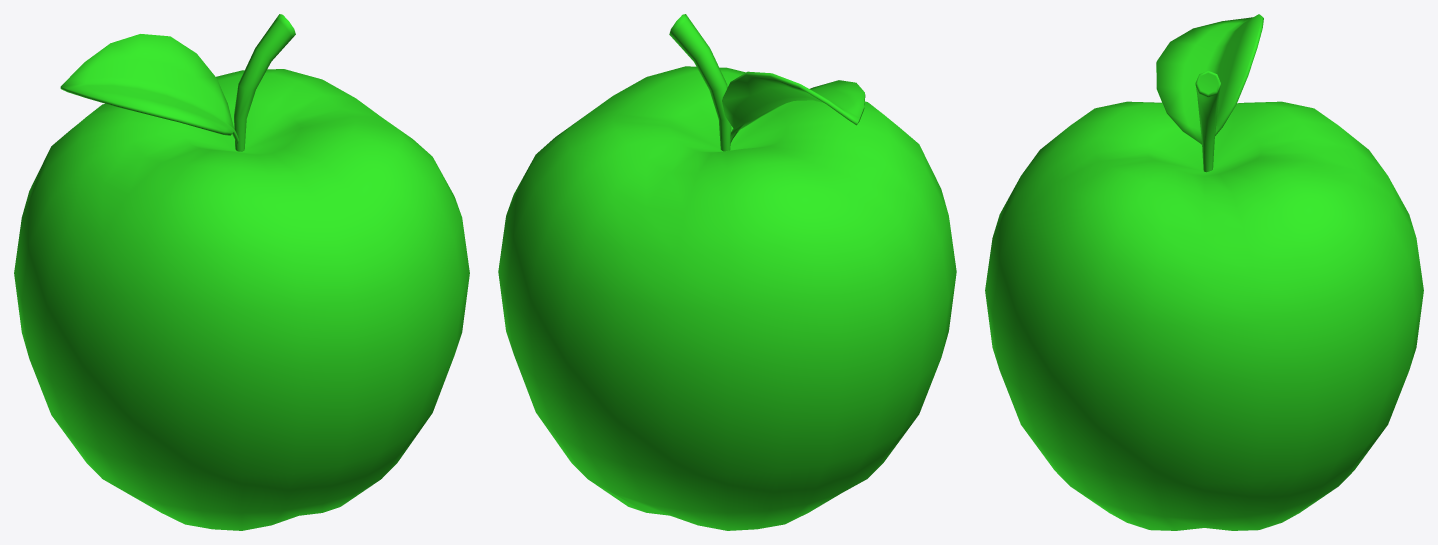
The model's file is MelaVerde.fbx.
The picture shows the model from 3 angles, left to right: view 1: azimuth 30°, elevation 25°; view 2: azimuth 150°, elevation 25°; view 3: azimuth 270°, elevation 25°; orthographic projection. The views are drawn at different scales.
Parts seen in each view (by area): view 1: Mela.002; view 2: Mela.002; view 3: Mela.002.
Part boxes in pixels (x1,y1,x2,y2): Mela.002: [14, 14, 469, 530]; Mela.002: [498, 14, 956, 530]; Mela.002: [985, 14, 1423, 530].
Bounding box in the file's own units: 203 × 231 × 203.
